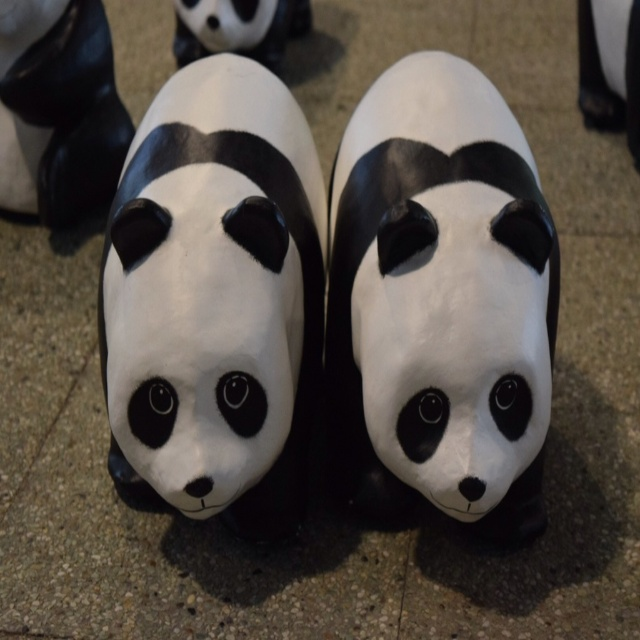Panda: (0, 0, 640, 522)
